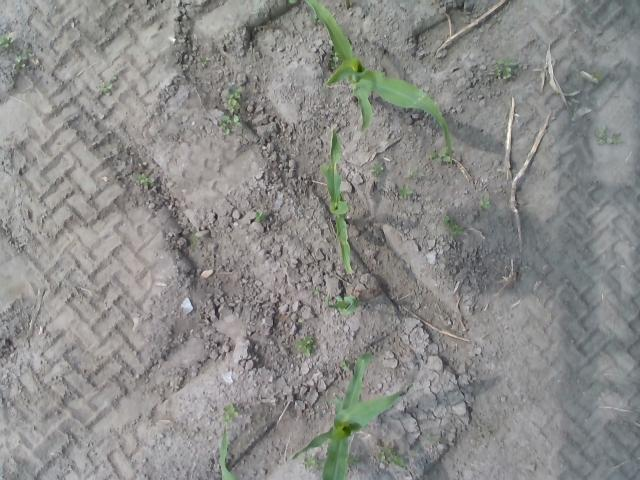Maize: (307, 1, 455, 168), (292, 353, 417, 478), (320, 130, 358, 276), (323, 290, 358, 318), (220, 432, 240, 480)
Weeds: (217, 108, 248, 138), (592, 124, 628, 149), (378, 444, 412, 470), (493, 55, 520, 86), (442, 212, 468, 240), (428, 146, 452, 169), (294, 336, 319, 358), (220, 399, 240, 424), (100, 73, 118, 98), (222, 87, 245, 106), (14, 50, 36, 69), (423, 432, 448, 446), (1, 31, 14, 54), (304, 454, 325, 468), (137, 174, 156, 188), (254, 206, 266, 228), (200, 56, 215, 72), (408, 167, 426, 180), (396, 185, 416, 196), (478, 198, 496, 210), (373, 160, 383, 178), (341, 359, 348, 375)
